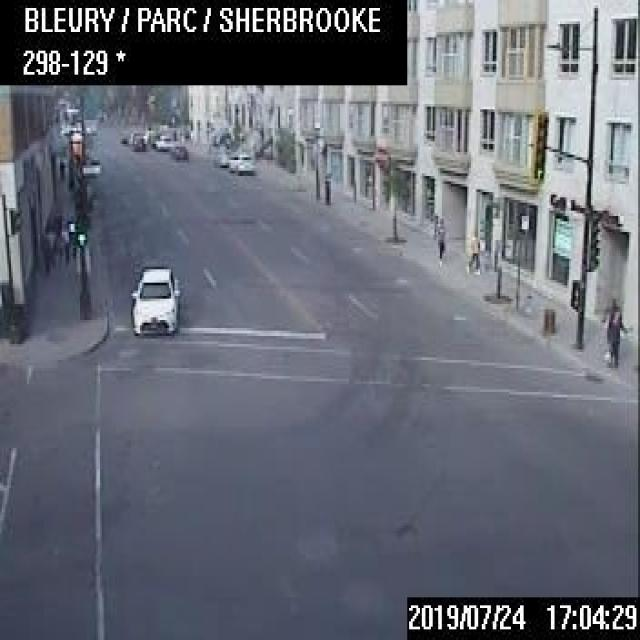pedestrian: (600, 294, 626, 366), (466, 232, 480, 272), (434, 215, 446, 259), (40, 224, 50, 271)
vehicle: (128, 264, 180, 333), (227, 148, 253, 174), (153, 132, 171, 149), (170, 142, 187, 159), (212, 147, 227, 166), (132, 134, 144, 149)
